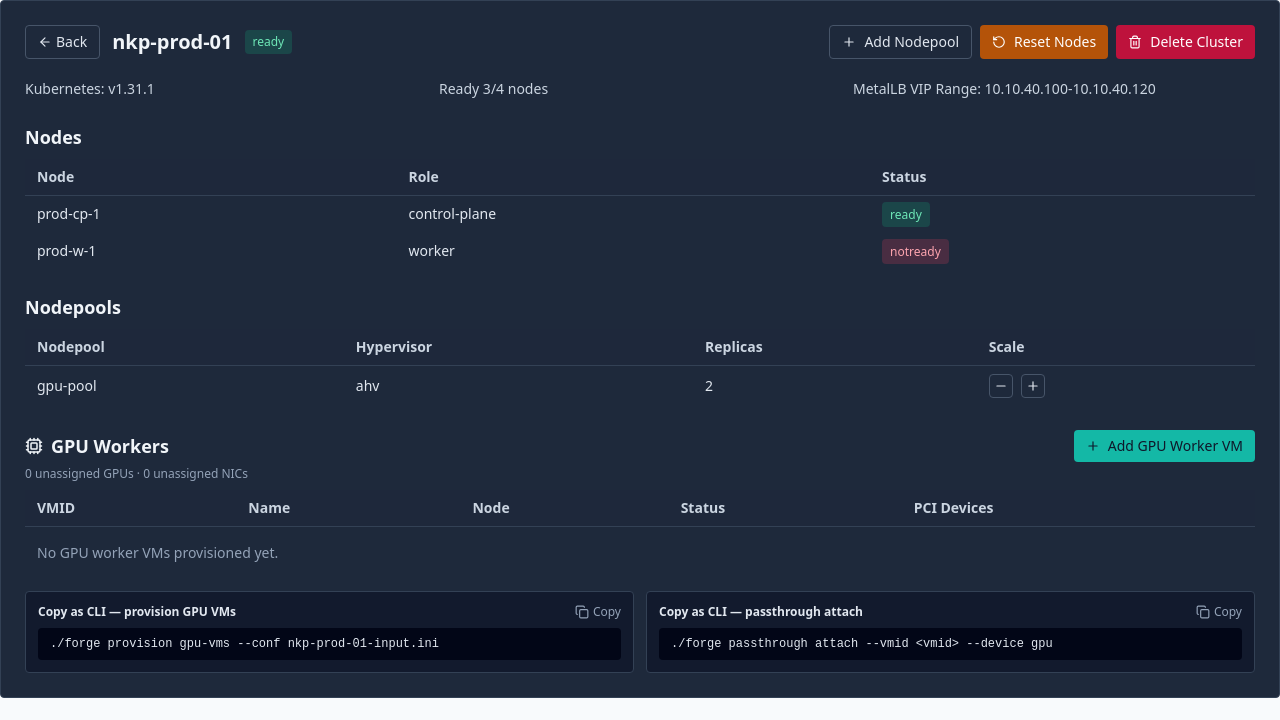
it: ClusterDetailPage › scale buttons post updated replicas and update count
Click the button with test id "btn-scale-up-gpu-pool".
click(1033, 386)  # box [1021,374,1045,398]
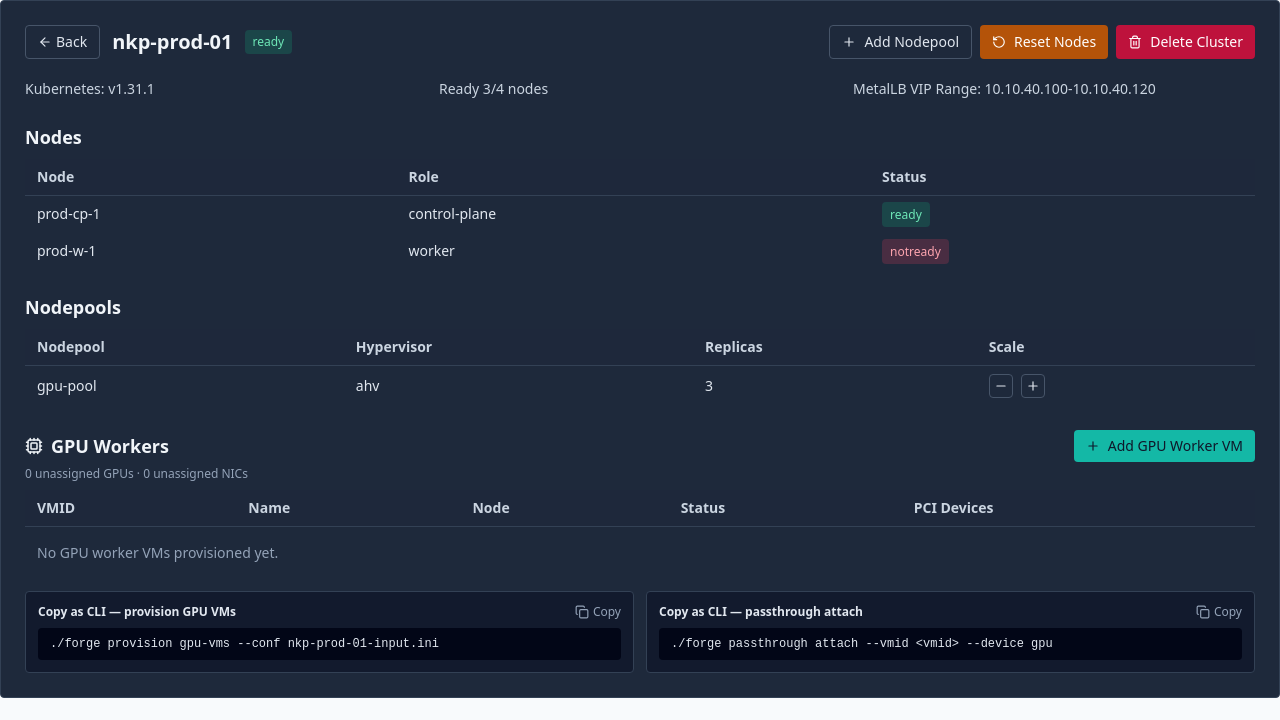
expect the cell with test id "text-replicas-gpu-pool" reads "3": met, box [705,376,713,395]
Click the button with test id "btn-scale-down-gpu-pool".
click(1001, 386)  # box [989,374,1013,398]
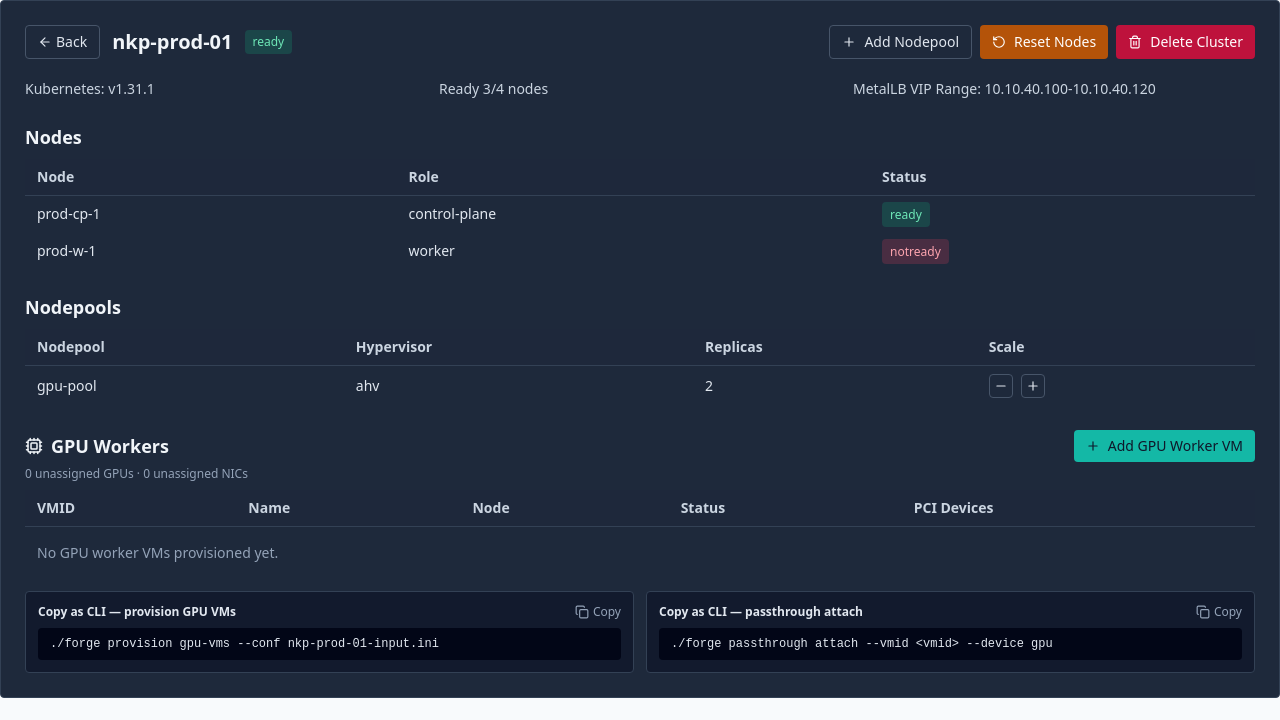
expect the cell with test id "text-replicas-gpu-pool" reads "2": met, box [705,376,713,395]
